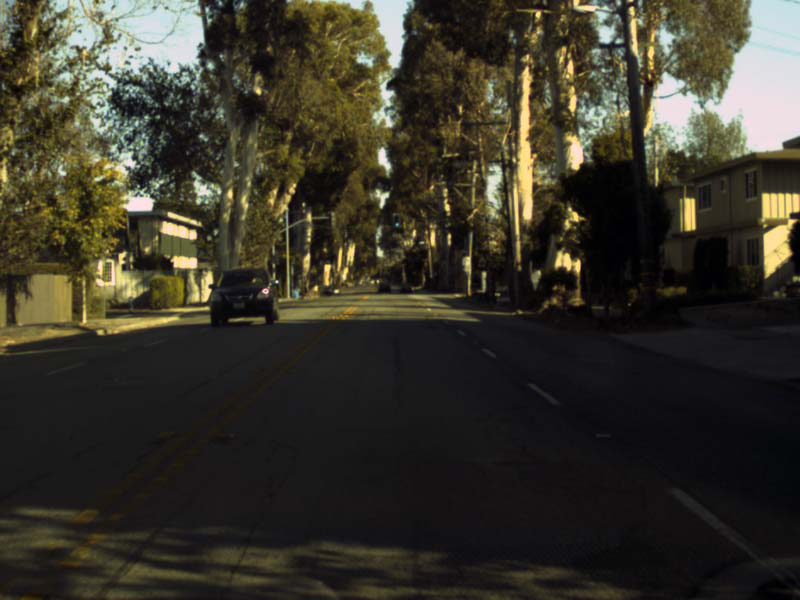Green: (393, 214, 401, 228)
